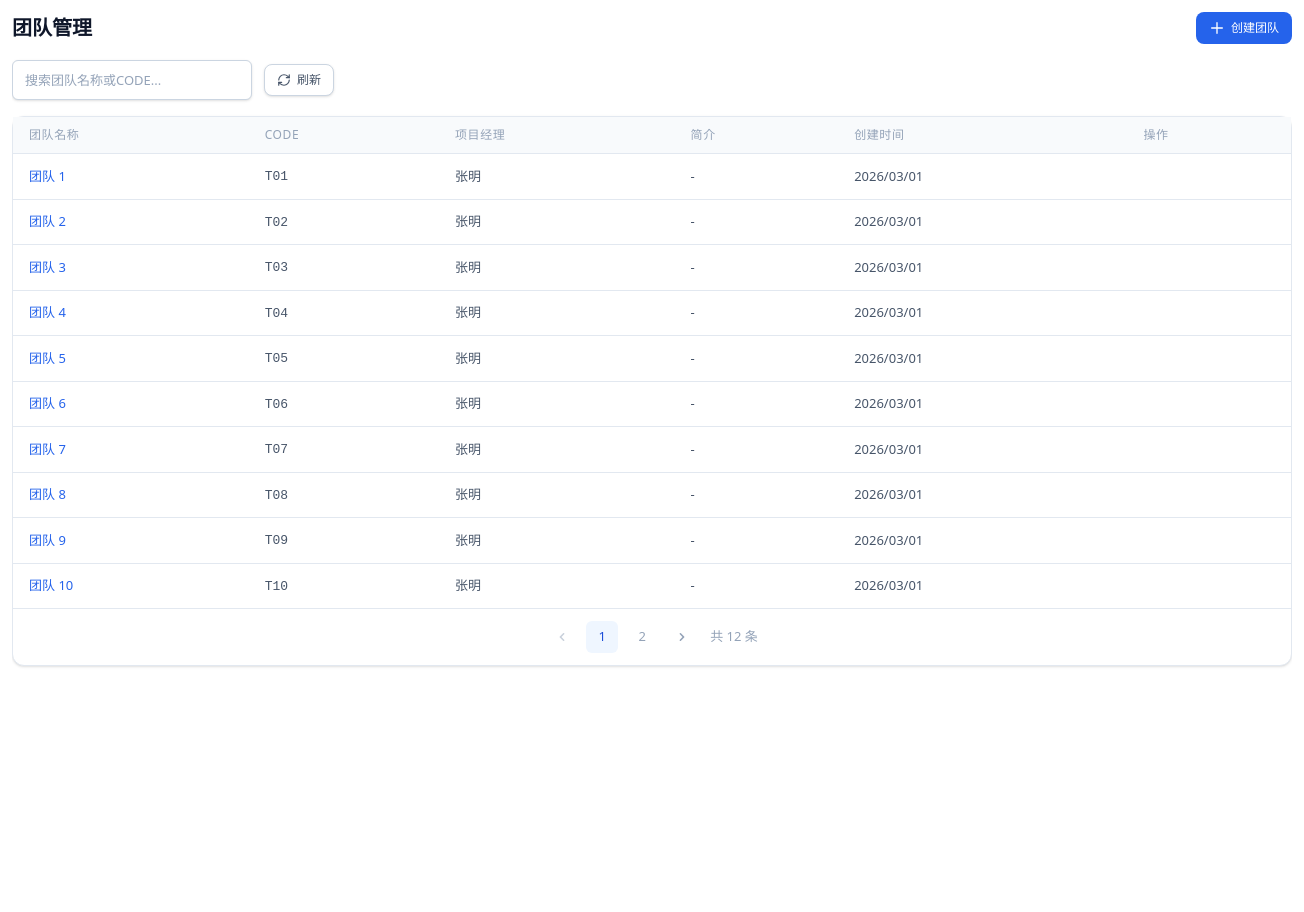
TeamManagementPage › navigates to next page when clicking next
expect the link "团队 1" is shown: met, box [29,166,66,184]
Go to page 2
Click the button named "Next page" at (682,637), box [666,621,698,653]
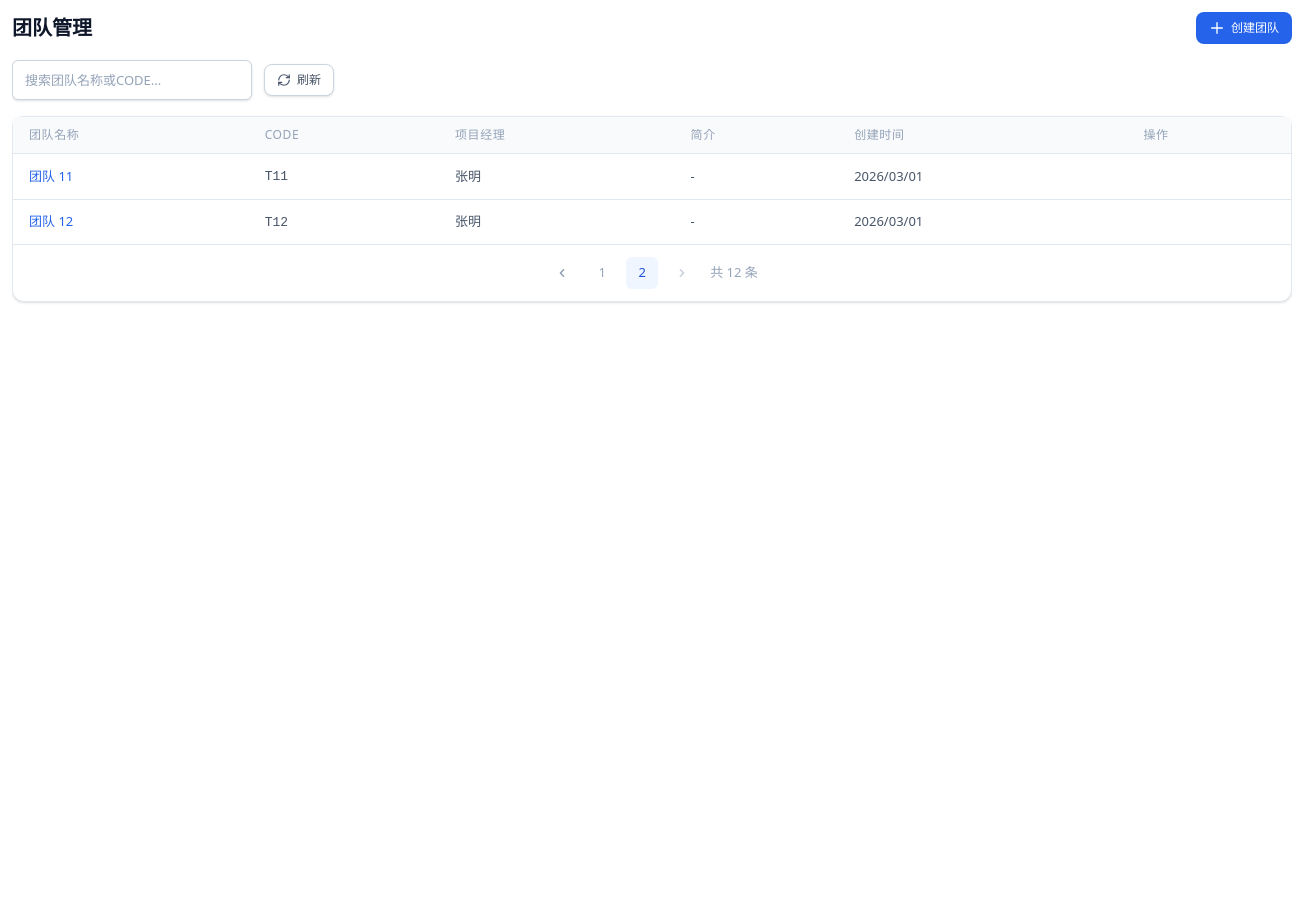
expect the link "团队 11" is shown: met, box [29,166,73,184]
expect the link "团队 12" is shown: met, box [29,212,73,230]
